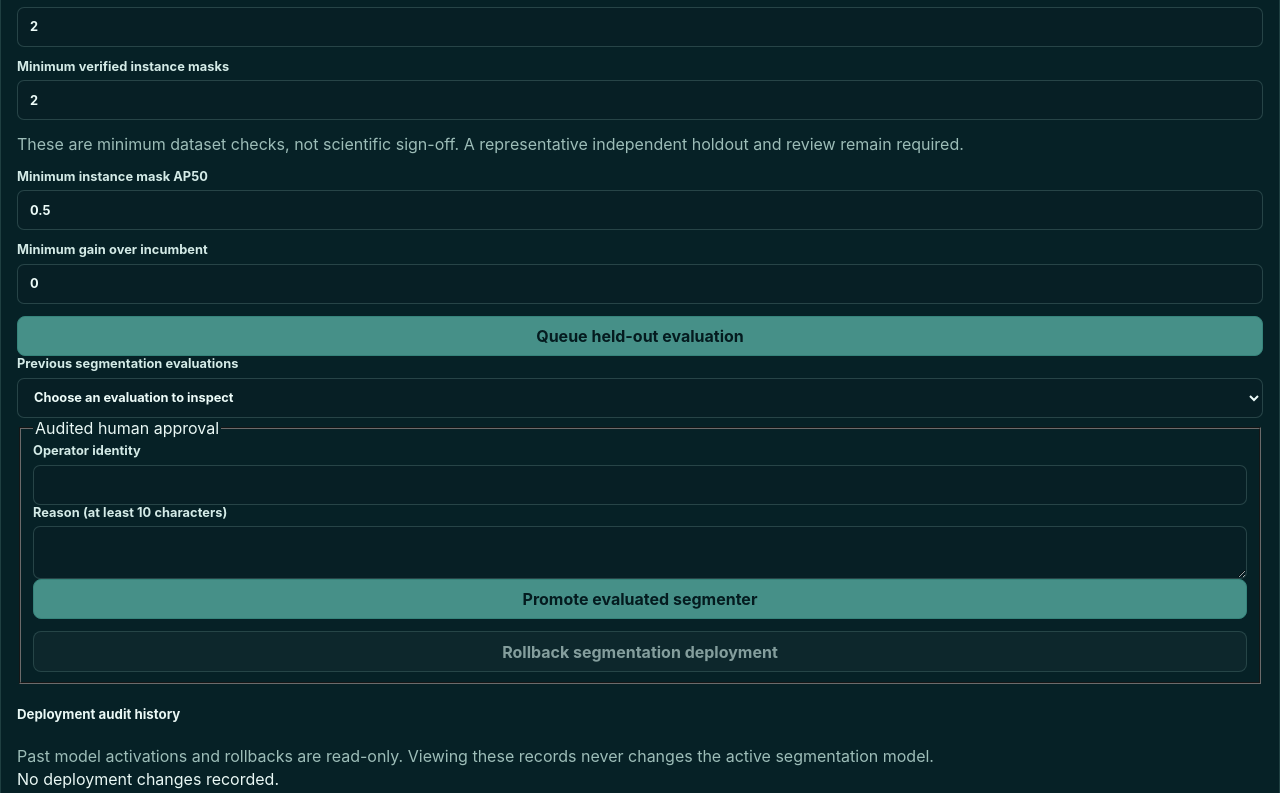
Test: SegmentationEvaluationPanel › loads prior project evaluation evidence without activating a model
The width and height of the screenshot is (1280, 793).
(page scrolled)
Select "completed: candidate" in the dropdown named "Segmentation evaluation history" at (640, 398), box [17, 378, 1263, 418]
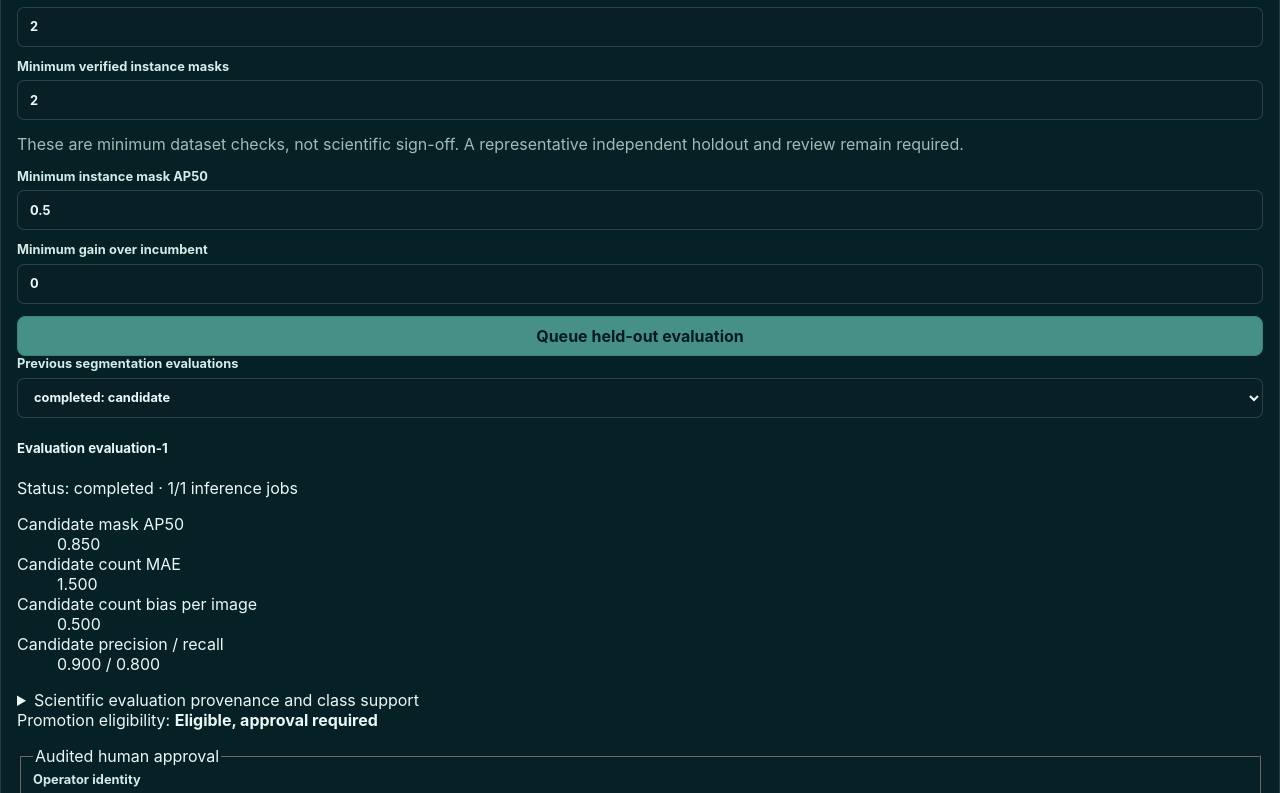
Result: the text "0.850" is shown at [57, 534, 100, 554]
